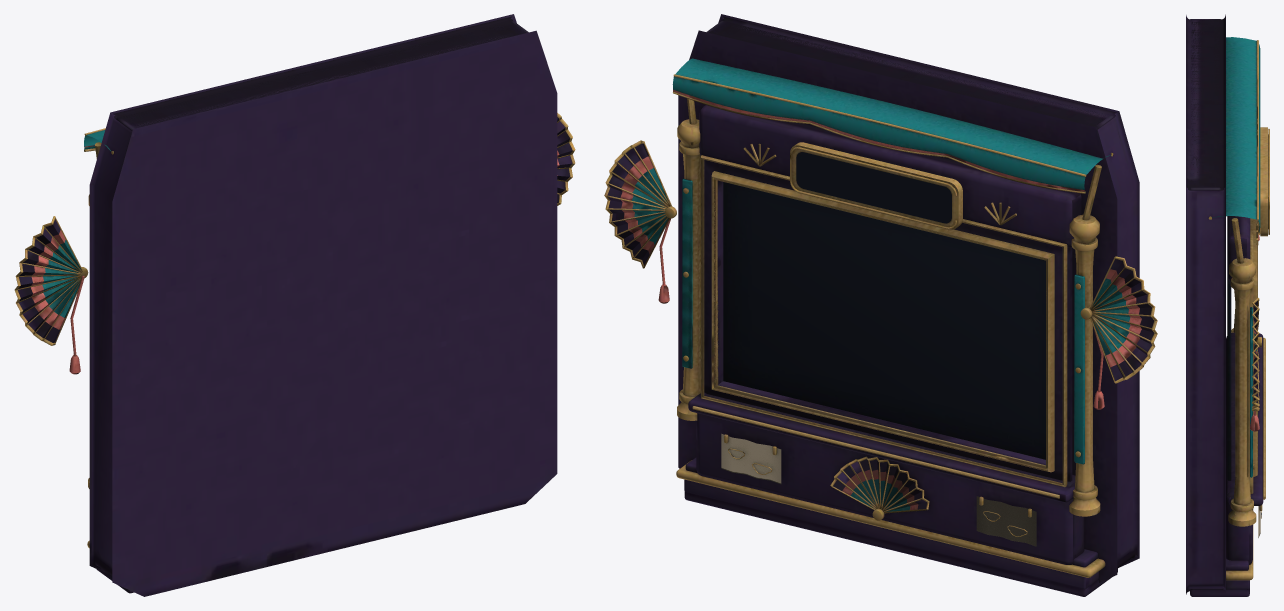
The picture shows the model from 3 angles, left to right: view 1: azimuth 30°, elevation 25°; view 2: azimuth 150°, elevation 25°; view 3: azimuth 270°, elevation 25°; orthographic projection. The views are drawn at different scales.
Parts seen in each view (by area): view 1: Deep_violet_lacquer, Satin_aged_brass, Teal_woven_silk, Coral_woven_silk; view 2: Deep_violet_lacquer, Even_midnight_inset, Satin_aged_brass, Teal_woven_silk, Coral_woven_silk, Warm_folded_paper; view 3: Deep_violet_lacquer, Satin_aged_brass, Teal_woven_silk, Even_midnight_inset, Coral_woven_silk.
Part boxes in pixels (x1,y1,x2,y2): Deep_violet_lacquer: (18, 14, 572, 596); Satin_aged_brass: (14, 113, 575, 548); Teal_woven_silk: (42, 130, 111, 317); Coral_woven_silk: (31, 145, 559, 374); Deep_violet_lacquer: (607, 14, 1154, 596); Even_midnight_inset: (723, 152, 1045, 459); Satin_aged_brass: (604, 74, 1157, 577); Teal_woven_silk: (632, 58, 1130, 511); Coral_woven_silk: (620, 89, 1141, 509); Warm_folded_paper: (721, 433, 1036, 546); Deep_violet_lacquer: (1186, 14, 1263, 596); Satin_aged_brass: (1208, 40, 1269, 580); Teal_woven_silk: (1212, 37, 1260, 477); Even_midnight_inset: (1227, 134, 1268, 480); Coral_woven_silk: (1250, 235, 1259, 431).
Bounding box in the file's own units: 11.34 × 9.14 × 1.68.
6 materials, 6 textured.
